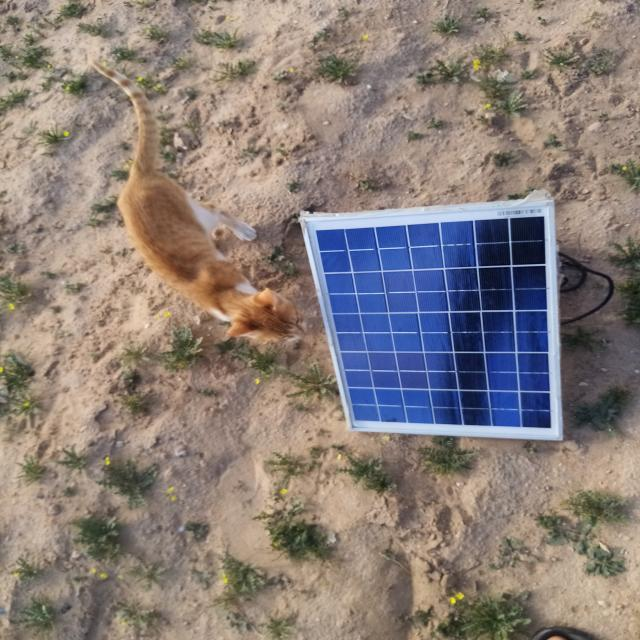no faulty: (304, 203, 559, 440)
